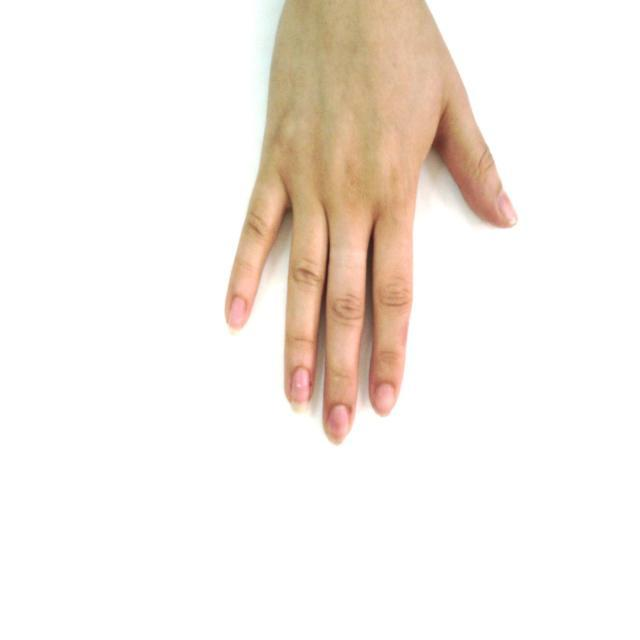Fingernail: (325, 406, 349, 444), (292, 368, 311, 414), (229, 297, 247, 334), (500, 192, 517, 224), (376, 384, 394, 413)
